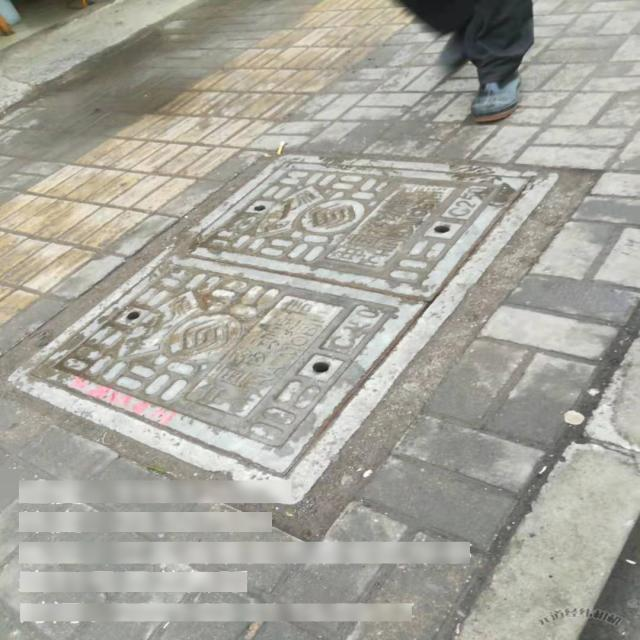Good: (4, 154, 558, 506)
